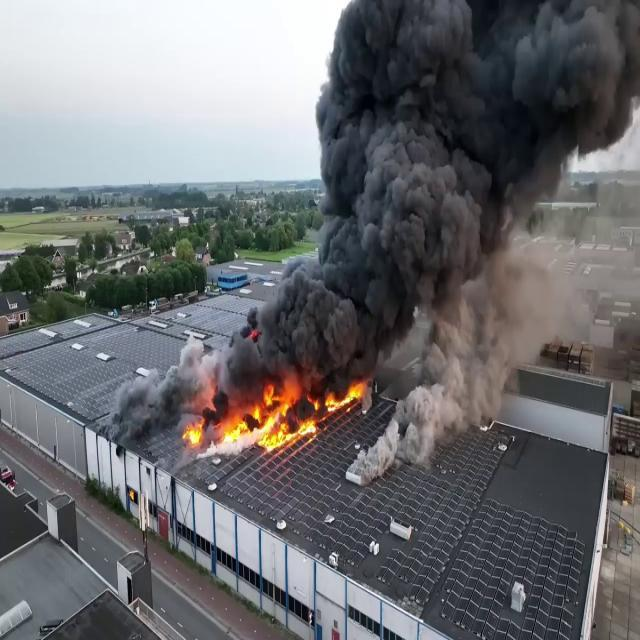Fire: (185, 388, 318, 453), (325, 366, 371, 416)
Smoke: (218, 0, 640, 444), (341, 299, 525, 497), (106, 315, 218, 437)
